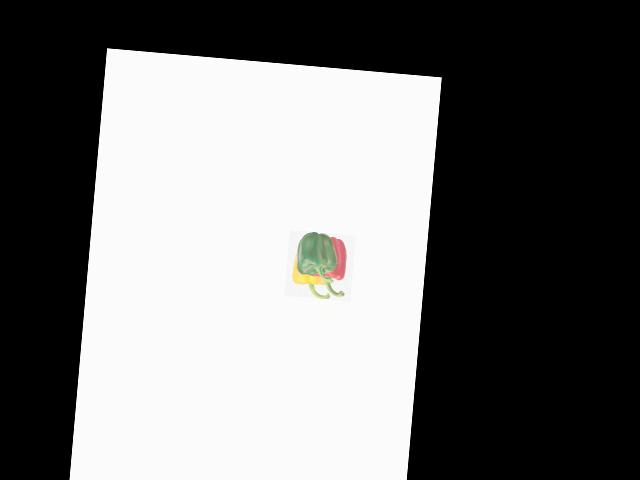bell_pepper: (313, 234, 356, 299)
